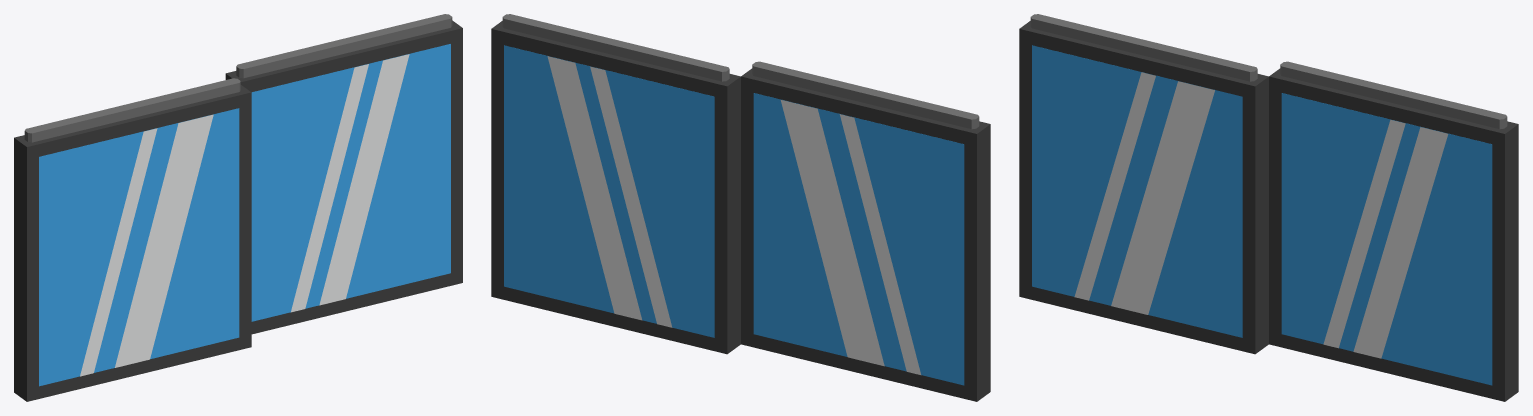
Rendered from autoDoor.fbx.
3 renders of one model, left to right at view 1: azimuth 30°, elevation 25°; view 2: azimuth 150°, elevation 25°; view 3: azimuth 330°, elevation 25°, orthographic. The views are drawn at different scales.
Visible parts, largest first — view 1: AutoDoor, AutoDoor_base; view 2: AutoDoor, AutoDoor_base; view 3: AutoDoor, AutoDoor_base.
Boxes of the visible parts, bbox=[...] form: AutoDoor: bbox=[14, 78, 251, 401]; AutoDoor_base: bbox=[225, 14, 462, 334]; AutoDoor: bbox=[741, 61, 990, 401]; AutoDoor_base: bbox=[491, 14, 740, 354]; AutoDoor: bbox=[1019, 14, 1268, 354]; AutoDoor_base: bbox=[1269, 61, 1518, 401].
Bounding box in the file's own units: 500 × 281 × 51.
